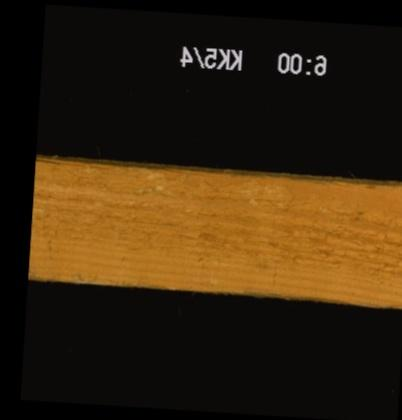split: (35, 157, 112, 170), (154, 166, 222, 177)
